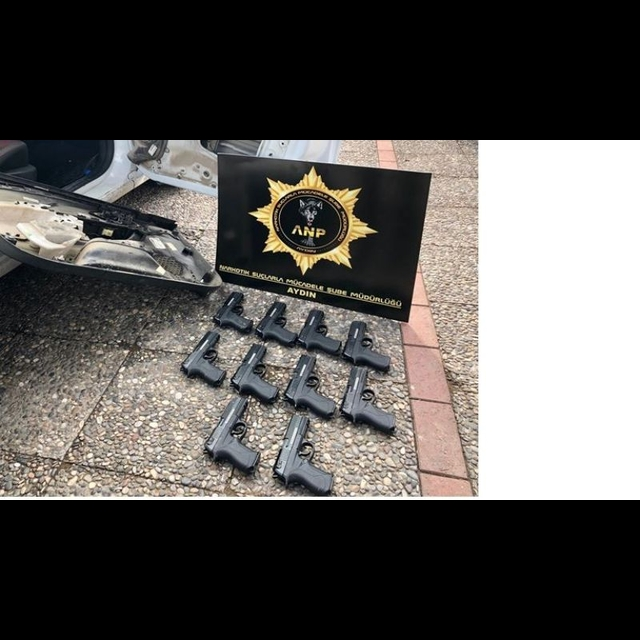SILAH: (272, 414, 336, 494), (202, 397, 264, 475), (341, 364, 400, 434), (342, 314, 398, 369)
